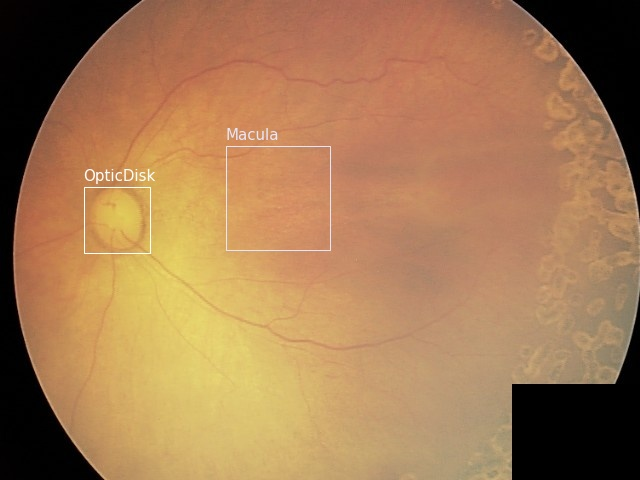Macula: (225, 145, 329, 249)
OpticDisk: (83, 186, 149, 252)
